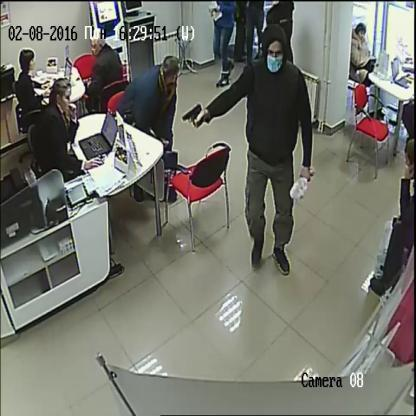pistols: (180, 104, 206, 128)
